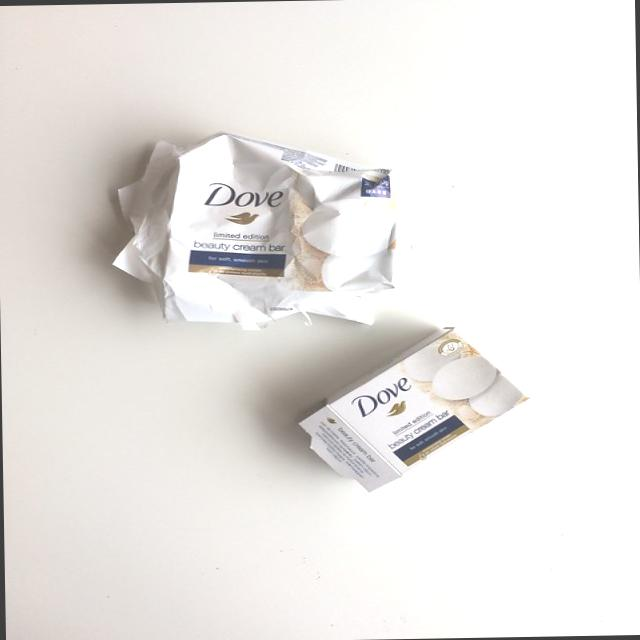Recycle: (290, 318, 535, 492)
Trash: (108, 122, 428, 336)
